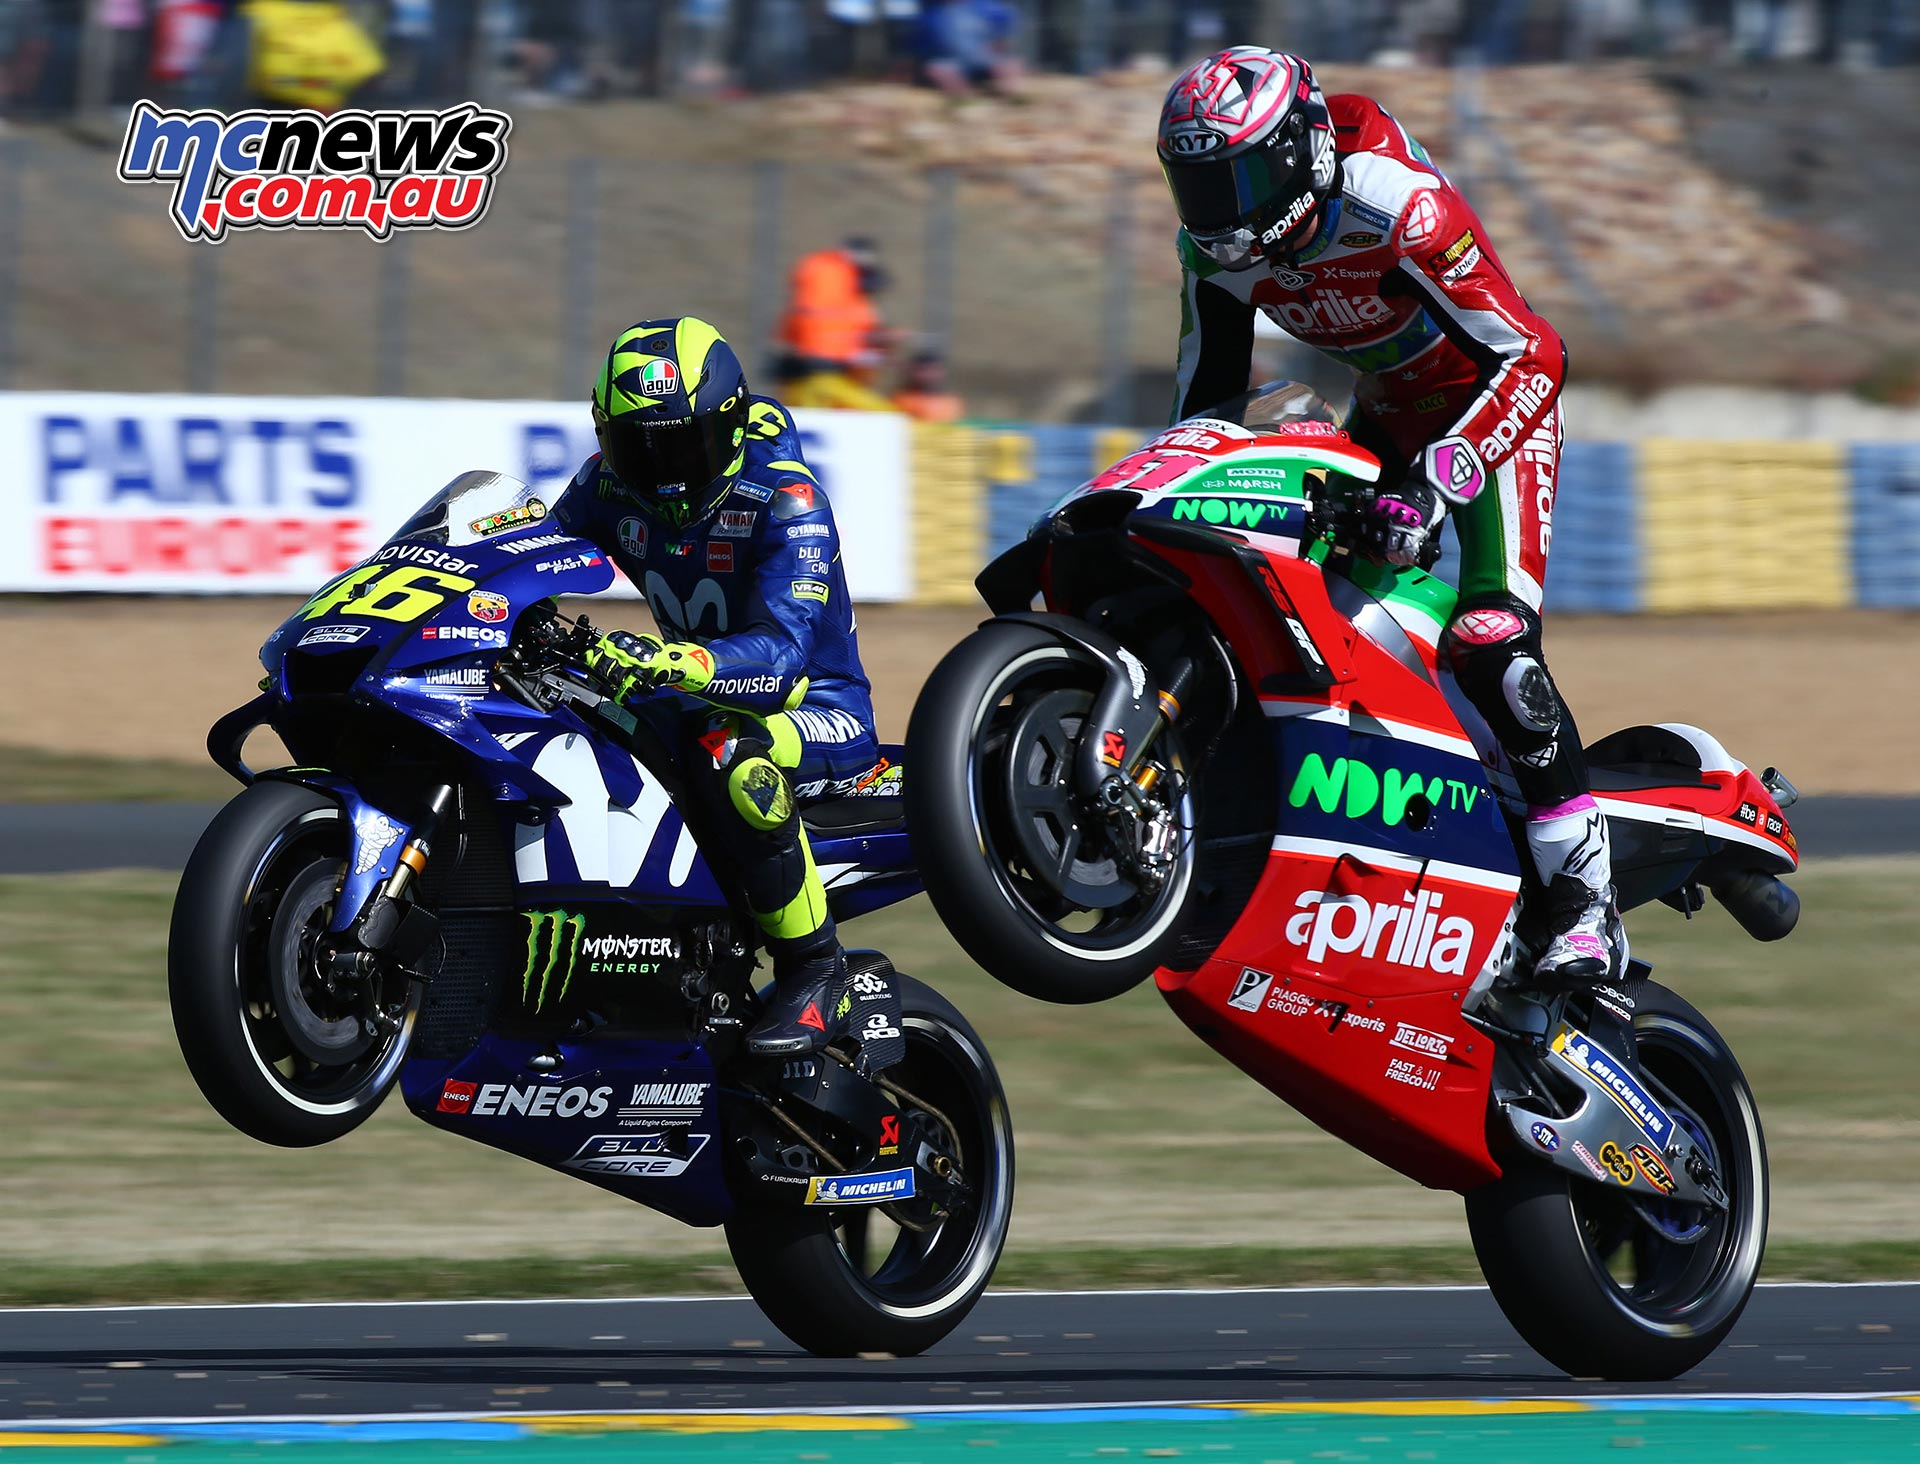helmet: (1124, 12, 1408, 301), (576, 289, 790, 554)
